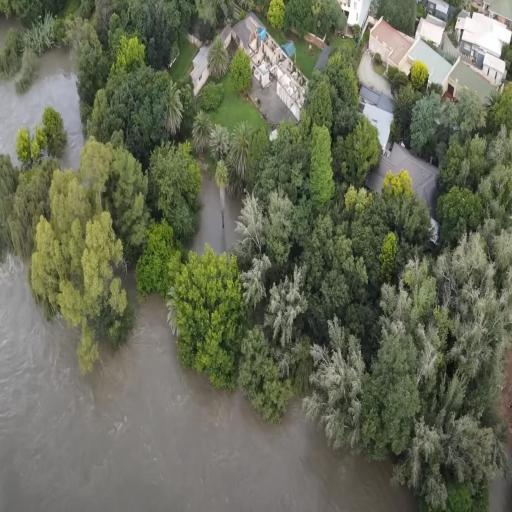flood: (0, 255, 418, 511), (0, 46, 84, 168), (190, 170, 242, 254), (0, 13, 21, 49)
house: (234, 14, 312, 122), (366, 130, 443, 226), (460, 10, 512, 86), (188, 24, 232, 102), (406, 38, 454, 102), (370, 19, 420, 79), (356, 83, 397, 155), (448, 56, 497, 113), (339, 0, 372, 40), (423, 0, 452, 29)
